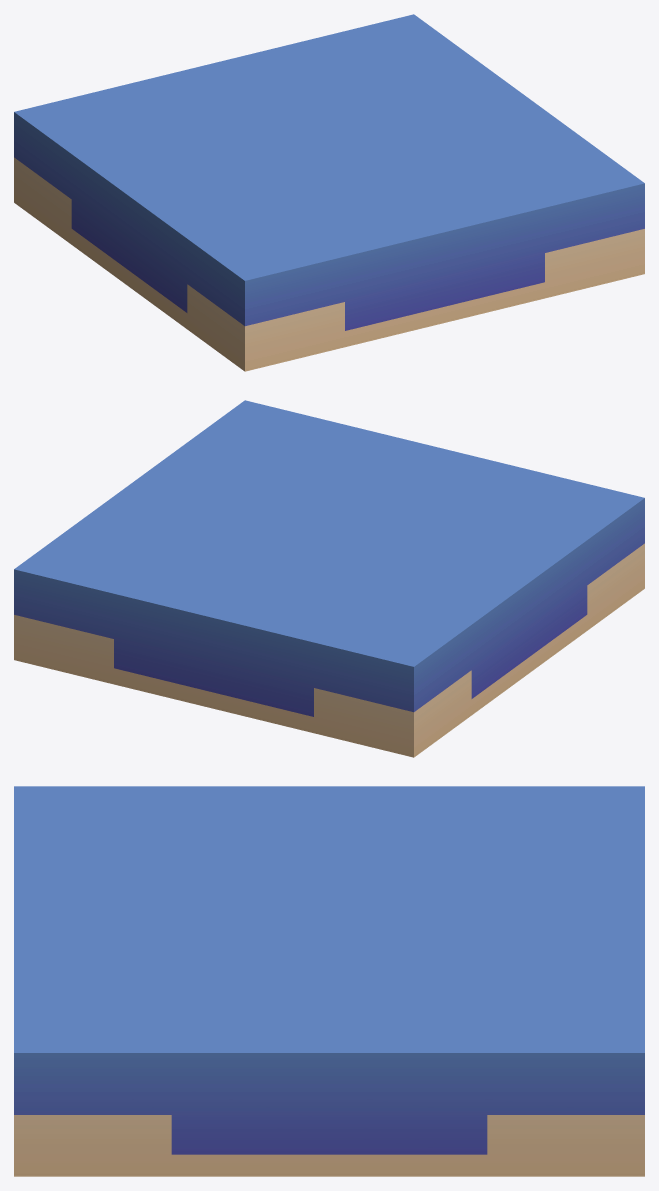
Rendered from tower-square-mid-color.glb.
The picture shows the model from 3 angles, top to bottom: view 1: azimuth 30°, elevation 25°; view 2: azimuth 150°, elevation 25°; view 3: azimuth 270°, elevation 25°; orthographic projection. The views are drawn at different scales.
Parts seen in each view (by area): view 1: tower-square-mid-color; view 2: tower-square-mid-color; view 3: tower-square-mid-color.
Boxes of the visible parts, box(x1,y1,x2,y2) form: tower-square-mid-color: box(14, 14, 644, 371); tower-square-mid-color: box(14, 400, 644, 757); tower-square-mid-color: box(14, 786, 644, 1176).
Bounding box in the file's own units: 0.93 × 0.2016 × 0.93.
Materials: 1 (1 with a texture image).
